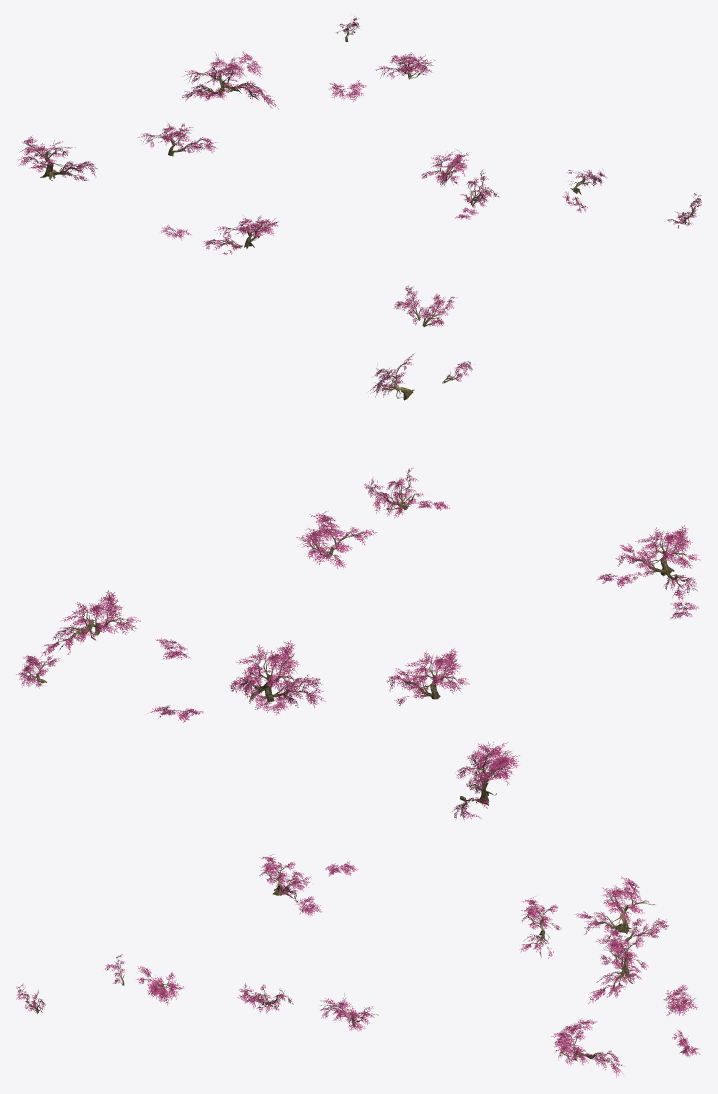
Rendered from S_Tree_3100_001.FBX.
3 views of the same model, one above another, from view 1: azimuth 30°, elevation 25°; view 2: azimuth 150°, elevation 25°; view 3: azimuth 270°, elevation 25° (orthographic). The views are drawn at different scales.
Visible parts, largest first — view 1: S_Tree_Red005_A3, S_Tree_Red005_A4, S_Tree_Red005_A7, S_Tree_Red005_A5, S_Tree_Red005_A1, S_Tree_Red005_A6, S_Tree_Red003_A8, S_Tree_Red003_A6, S_Tree_Red002_A2, S_Tree_Red002_A1; view 2: S_Tree_Red005_A3, S_Tree_Red005_A7, S_Tree_Red005_A1, S_Tree_Red005_A6, S_Tree_Red005_A4, S_Tree_Red005_A5; view 3: S_Tree_Red005_A4, S_Tree_Red005_A3, S_Tree_Red005_A7, S_Tree_Red005_A1, S_Tree_Red005_A8, S_Tree_Red005_A5, S_Tree_Red005_A6, S_Tree_Red003_A8, S_Tree_Red002_A2, S_Tree_Red003_A6, S_Tree_Red003_A5, S_Tree_Red003_A1 (+1 smaller).
Part boxes in pixels (<box>): S_Tree_Red005_A3: <box>184,52,242,94</box>; S_Tree_Red005_A4: <box>20,135,75,180</box>; S_Tree_Red005_A7: <box>421,149,469,186</box>; S_Tree_Red005_A5: <box>138,123,193,156</box>; S_Tree_Red005_A1: <box>375,52,435,79</box>; S_Tree_Red005_A6: <box>215,215,269,248</box>; S_Tree_Red003_A8: <box>222,80,278,109</box>; S_Tree_Red003_A6: <box>49,161,97,181</box>; S_Tree_Red002_A2: <box>220,51,262,78</box>; S_Tree_Red002_A1: <box>328,80,366,101</box>; S_Tree_Red005_A3: <box>235,640,308,702</box>; S_Tree_Red005_A7: <box>296,511,377,569</box>; S_Tree_Red005_A1: <box>60,590,140,644</box>; S_Tree_Red005_A6: <box>635,525,700,576</box>; S_Tree_Red005_A4: <box>456,742,519,805</box>; S_Tree_Red005_A5: <box>405,648,469,699</box>; S_Tree_Red005_A4: <box>601,876,655,933</box>; S_Tree_Red005_A3: <box>603,924,648,981</box>; S_Tree_Red005_A7: <box>320,993,378,1031</box>; S_Tree_Red005_A1: <box>551,1028,599,1065</box>; S_Tree_Red005_A8: <box>136,966,184,1005</box>; S_Tree_Red005_A5: <box>521,897,561,939</box>; S_Tree_Red005_A6: <box>259,854,298,895</box>; S_Tree_Red003_A8: <box>588,961,634,1003</box>; S_Tree_Red002_A2: <box>663,984,697,1015</box>; S_Tree_Red003_A6: <box>574,911,623,943</box>; S_Tree_Red003_A5: <box>625,918,668,941</box>; S_Tree_Red003_A1: <box>576,1050,624,1077</box>.
Bounding box in the file's own units: 9657 × 2821 × 14626.
